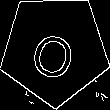O_N: (28, 19, 82, 80)
